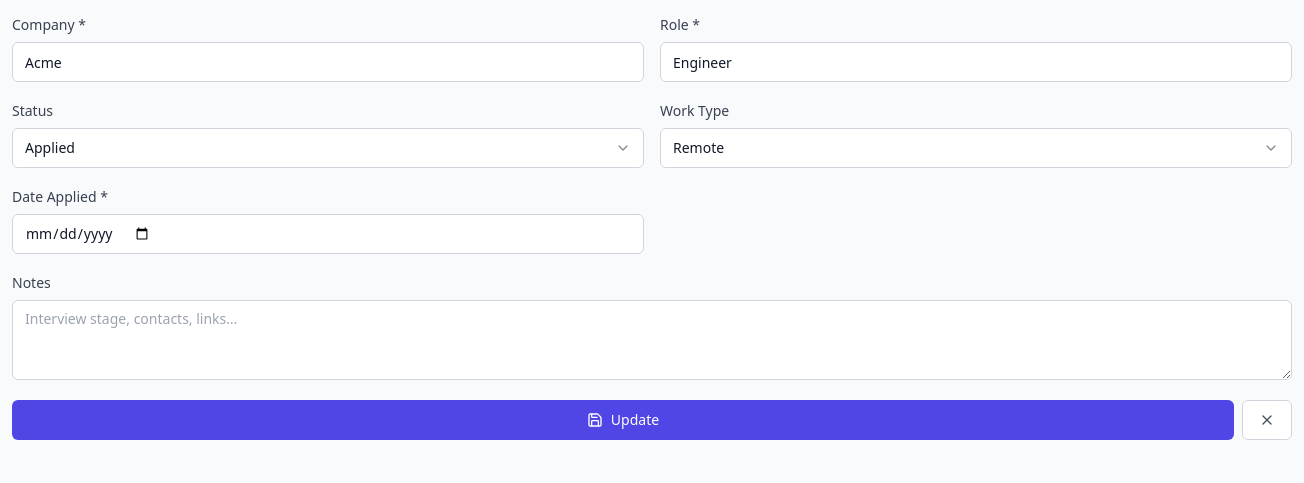
Test: ApplicationForm › shows a date error on submit when the date is blank
Click the button "Update" at (623, 420), box x1=12 y1=400 x2=1234 y2=440
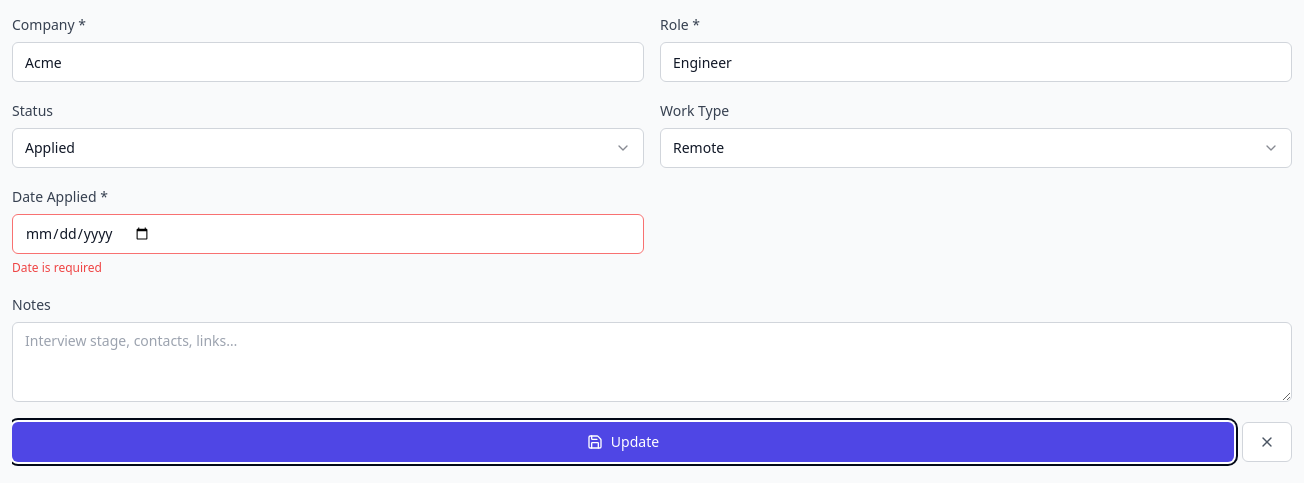
Result: the text "Date is required" is shown at x1=12 y1=259 x2=102 y2=276
